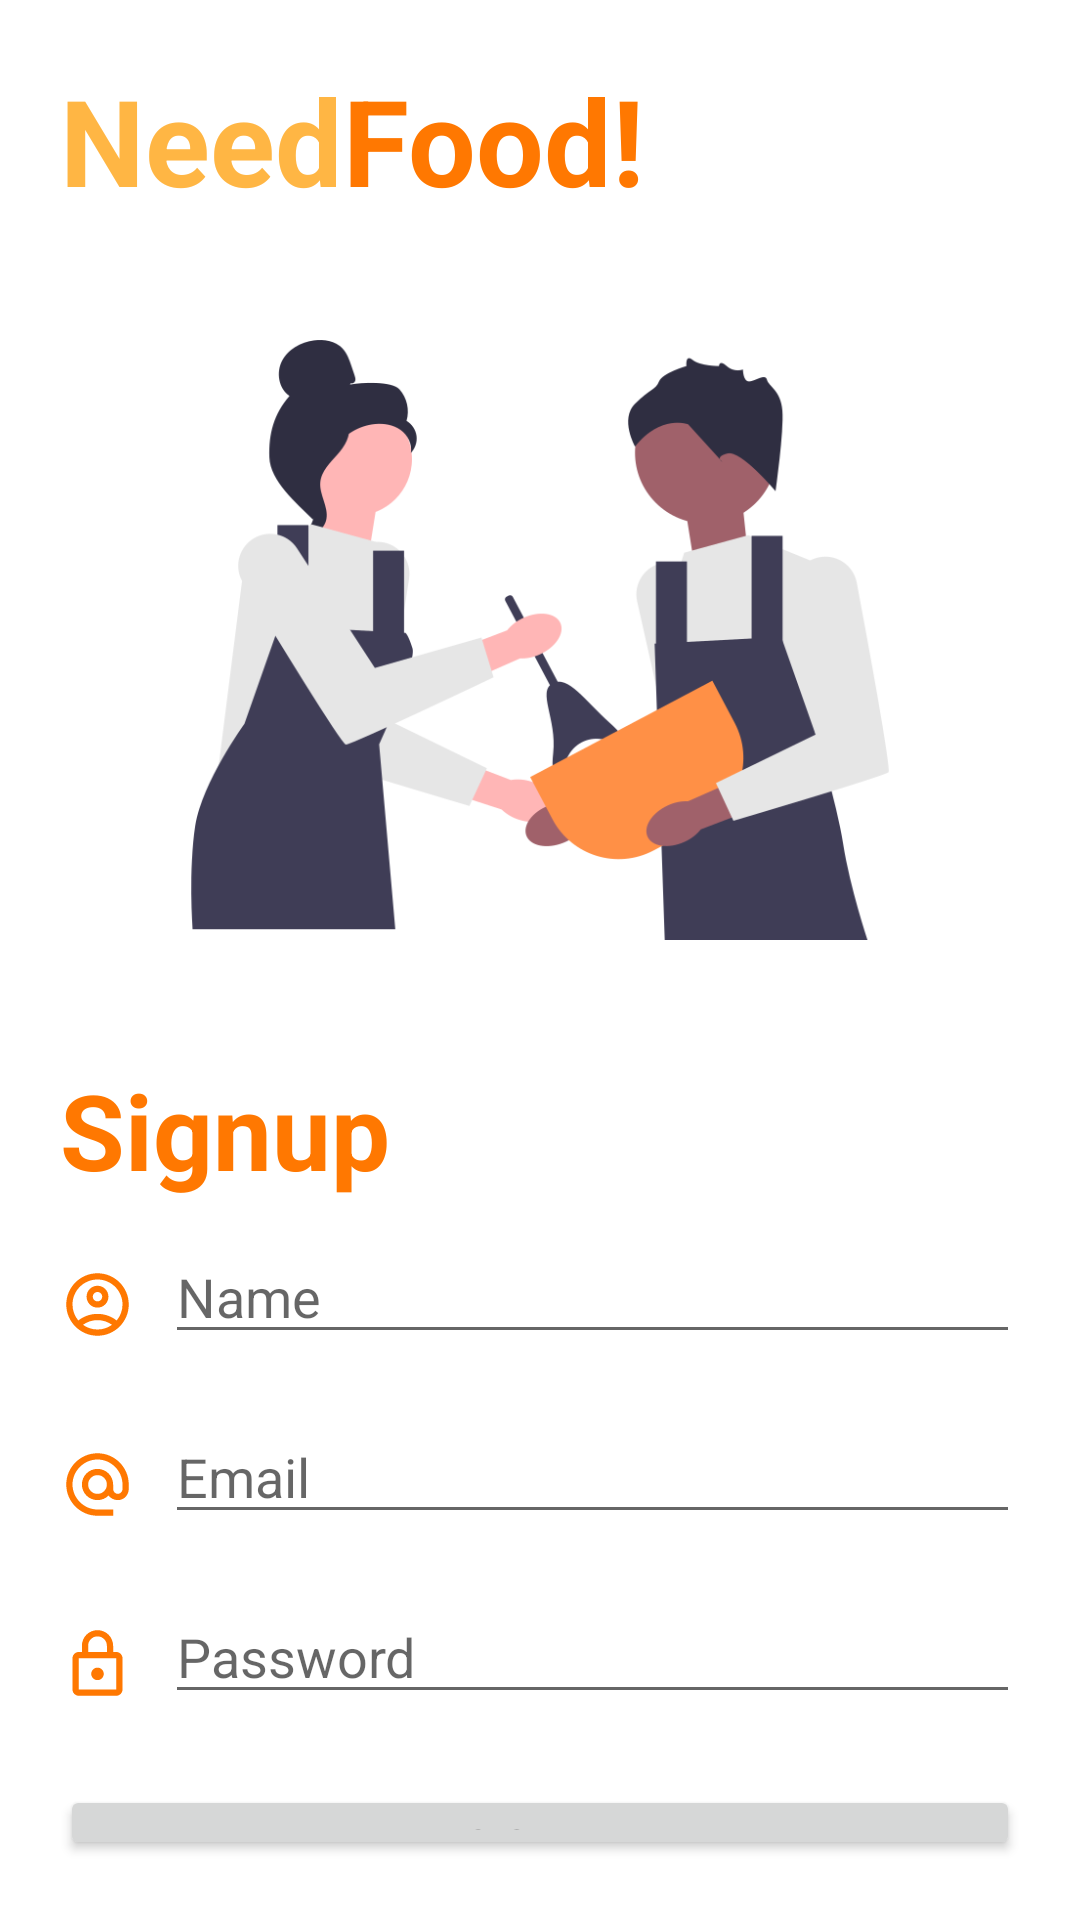

Screen size 1080×1920. Icon name, then its center in pixels as (x=x, y=y):
account circle: (x=97, y=1304)
lock: (x=97, y=1663)
